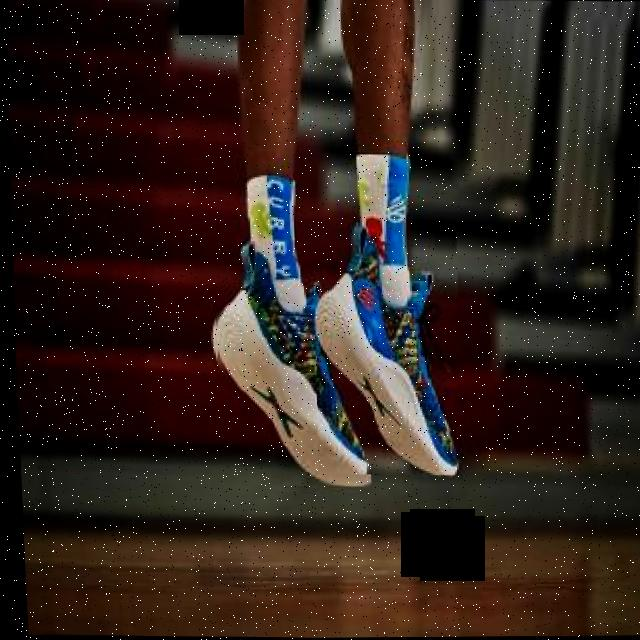shoe: (203, 239, 370, 487), (305, 221, 462, 476)
